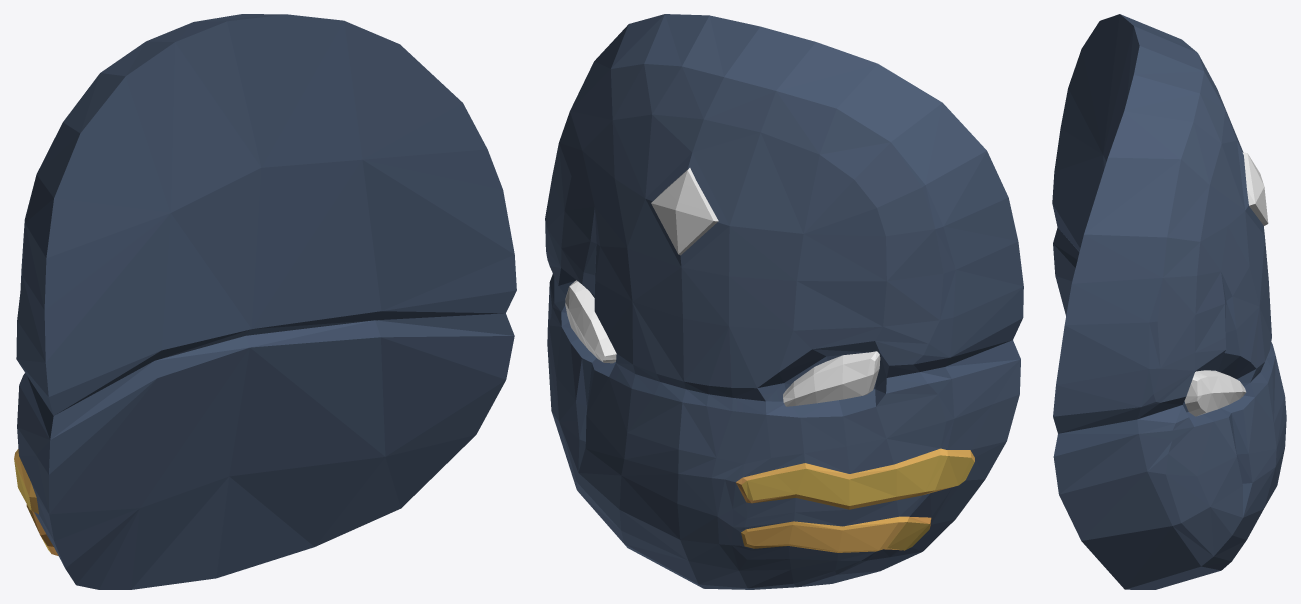
File: CharSkyKid_Mask_AP32WaveScar.glb
3 renders of one model, left to right at view 1: azimuth 30°, elevation 25°; view 2: azimuth 150°, elevation 25°; view 3: azimuth 270°, elevation 25°, orthographic. The views are drawn at different scales.
Parts seen in each view (by area): view 1: CharSkyKid_Mask_AP32WaveScar; view 2: CharSkyKid_Mask_AP32WaveScar; view 3: CharSkyKid_Mask_AP32WaveScar.
Boxes of the visible parts, x1=… form: CharSkyKid_Mask_AP32WaveScar: x1=14, y1=14, x2=516, y2=589; CharSkyKid_Mask_AP32WaveScar: x1=545, y1=14, x2=1023, y2=589; CharSkyKid_Mask_AP32WaveScar: x1=1052, y1=14, x2=1286, y2=589.
Bounding box in the file's own units: 2.13 × 2.48 × 1.02.
1 material, 1 textured.
